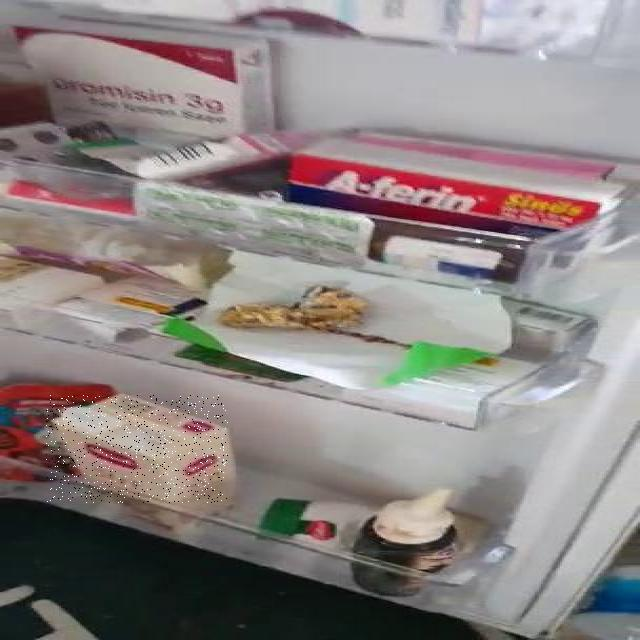milk: (46, 395, 228, 503)
